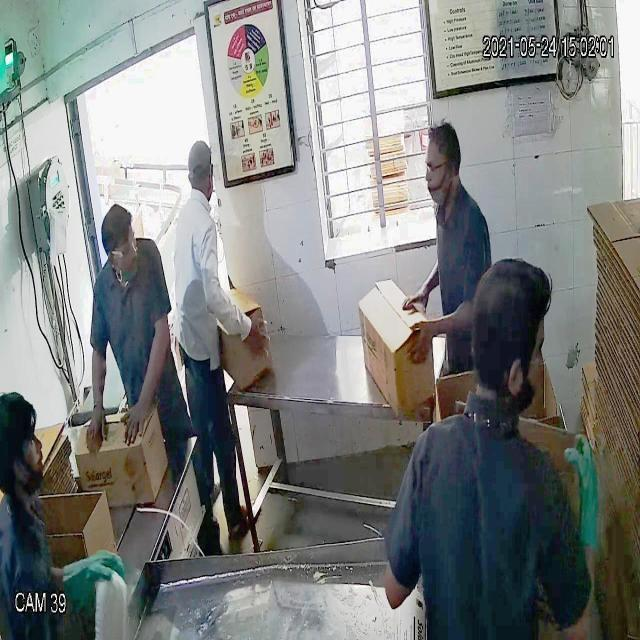hairnet: (12, 441, 46, 489), (116, 247, 143, 287), (424, 169, 453, 205)
